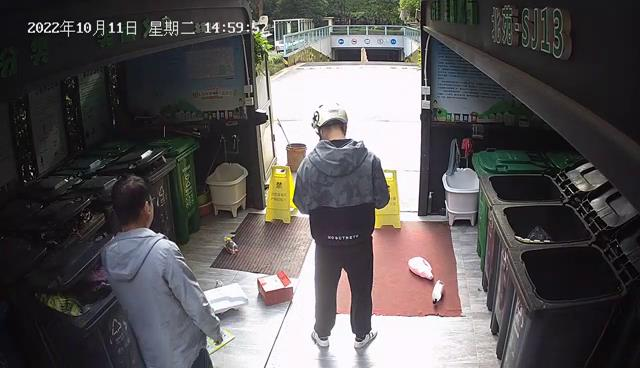paomozhipin: (202, 282, 249, 314)
person: (291, 101, 391, 350), (99, 173, 224, 368)
suliaozhipin: (407, 255, 434, 281), (222, 231, 240, 255), (431, 279, 446, 305)
zhizhipin: (256, 270, 295, 306)
